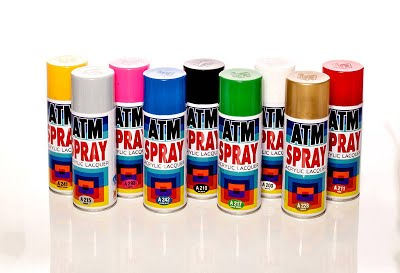Aerosol_cans: (69, 63, 119, 214), (216, 66, 265, 218), (280, 68, 329, 220), (140, 65, 189, 215)
